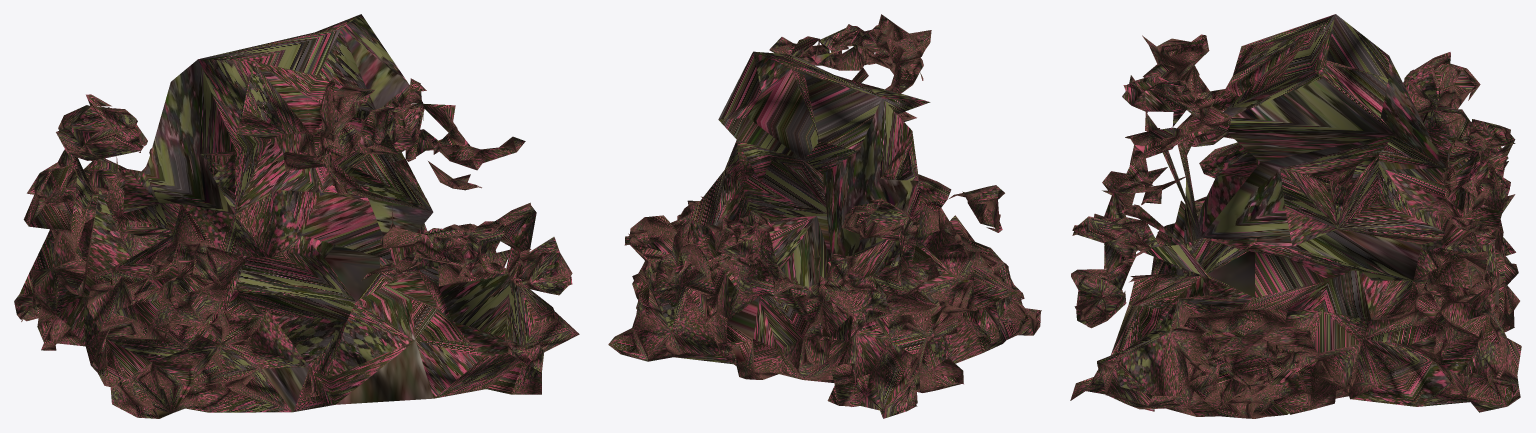
The model's file is lib_mtn_house.far.glb.
The picture shows the model from 3 angles, left to right: view 1: azimuth 30°, elevation 25°; view 2: azimuth 150°, elevation 25°; view 3: azimuth 270°, elevation 25°; orthographic projection. The views are drawn at different scales.
Visible parts, largest first — view 1: output_unwrapped; view 2: output_unwrapped; view 3: output_unwrapped.
Part boxes in pixels (x1=…): output_unwrapped: x1=14, y1=14, x2=579, y2=418; output_unwrapped: x1=608, y1=14, x2=1041, y2=418; output_unwrapped: x1=1070, y1=14, x2=1521, y2=418.
Bounding box in the file's own units: 1.98 × 1.43 × 1.95.
Materials: 1 (1 with a texture image).
